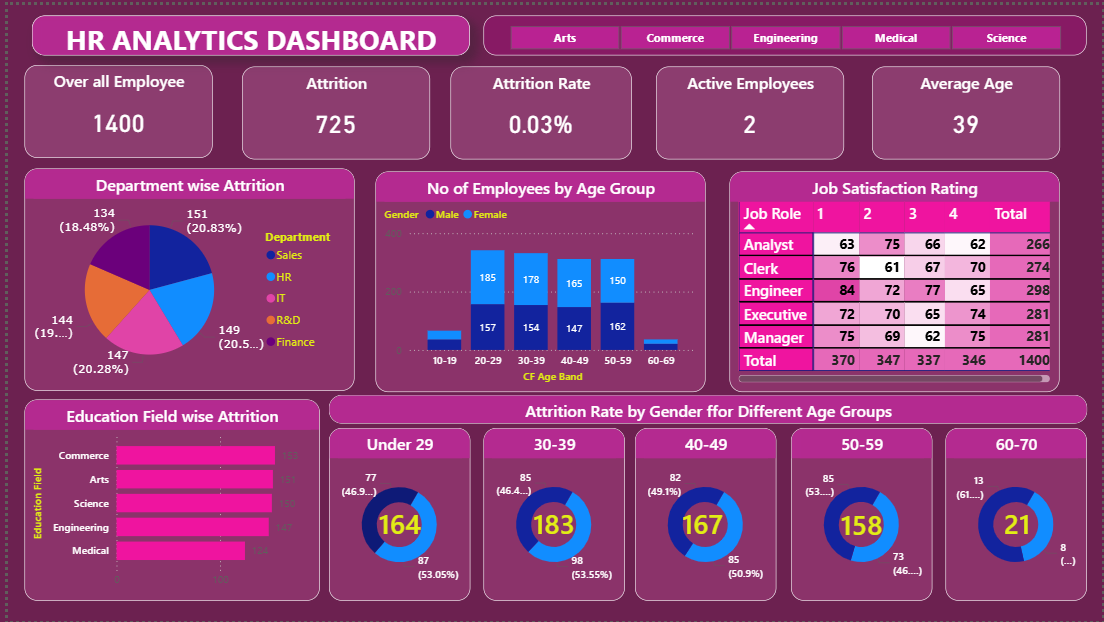

What the dashboard file says about the page in this screenshot:
{"tool":"powerbi","page":{"name":"Page 1","canvas":[1280,720],"ordinal":0},"visuals":[{"type":"card","title":"Over all Employee","fields":{"Values":["Sum(employee_attrition_1400.EmployeeCount)"]},"box":[20,70,220,108.3],"z":0},{"type":"card","title":"Attrition","fields":{"Values":["Sum(employee_attrition_1400.Attrition Count)"]},"box":[273.3,71.7,220,108.3],"z":1000},{"type":"card","title":"Attrition Rate","fields":{"Values":["HR data.Attrition Rate"]},"box":[516.7,71.7,211.7,108.3],"z":2000},{"type":"card","title":"Active Employees","fields":{"Values":["HR data.Active Employees"]},"box":[758.3,71.7,220,108.3],"z":3000},{"type":"card","title":"Average Age","fields":{"Values":["Avg(HR data.Age)"]},"box":[1010,71.7,220,108.3],"z":4000},{"type":"pieChart","title":"Department wise Attrition ","fields":{"Category":["HR data.Department"],"Y":["Sum(HR data.Attrition Count)"]},"box":[20,192,386,260],"z":5000},{"type":"columnChart","title":"No of Employees by Age Group","fields":{"Category":["HR data.CF Age Band"],"Y":["Sum(HR data.EmployeeCount)"],"Series":["HR data.Gender"]},"box":[430,194,386,258],"z":6000},{"type":"pivotTable","title":"Job Satisfaction Rating","fields":{"Rows":["HR data.Job Role"],"Columns":["HR data.Job  Satisfaction"],"Values":["Sum(HR data.EmployeeCount)"]},"box":[844,194,386,258],"z":7000},{"type":"barChart","title":"Education Field wise Attrition","fields":{"Category":["HR data.Education Field"],"Y":["Sum(HR data.Attrition Count)"]},"box":[20,462,345,235],"z":8000},{"type":"donutChart","title":"Under 29","fields":{"Category":["HR data.Gender"],"Y":["Sum(HR data.Attrition Count)"],"Series":["HR data.CF Age Band"]},"box":[375,495,165,202.1],"z":9000},{"type":"textbox","title":"Attrition Rate by Gender  ffor Different Age Groups","box":[375,456.7,886.7,33.3],"z":10000},{"type":"donutChart","title":"30-39","fields":{"Category":["HR data.Gender"],"Y":["Sum(HR data.Attrition Count)"],"Series":["HR data.CF Age Band"]},"box":[556.7,495,165,201.7],"z":11000},{"type":"donutChart","title":"40-49","fields":{"Category":["HR data.Gender"],"Y":["Sum(HR data.Attrition Count)"],"Series":["HR data.CF Age Band"]},"box":[733.3,495,165,201.7],"z":12000},{"type":"donutChart","title":"50-59","fields":{"Category":["HR data.Gender"],"Y":["Sum(HR data.Attrition Count)"],"Series":["HR data.CF Age Band"]},"box":[915,495,165,201.7],"z":13000},{"type":"donutChart","title":"60-70","fields":{"Category":["HR data.Gender"],"Y":["Sum(HR data.Attrition Count)"],"Series":["HR data.CF Age Band"]},"box":[1096.7,495,165,201.7],"z":14000},{"type":"card","fields":{"Values":["Sum(HR data.Attrition Count)"]},"box":[604.3,586.4,70,40.7],"z":15000},{"type":"card","fields":{"Values":["Sum(HR data.Attrition Count)"]},"box":[781.4,586.4,62.9,40.7],"z":16000},{"type":"card","fields":{"Values":["Sum(HR data.Attrition Count)"]},"box":[427.9,586.4,60,40.7],"z":17000},{"type":"card","fields":{"Values":["Sum(HR data.Attrition Count)"]},"box":[966.4,587.1,62.9,39.3],"z":18000},{"type":"card","fields":{"Values":["Sum(HR data.Attrition Count)"]},"box":[1148.3,586.7,61.7,40],"z":19000},{"type":"textbox","title":"HR ANALYTICS DASHBOARD","box":[28.3,11.7,511.7,46.7],"z":20000},{"type":"slicer","fields":{"Values":["HR data.Education Field"]},"box":[556.7,11.7,705,46.7],"z":21000}]}

Visuals, with their boxes in screenshot pixels (x1, y1, x2, y2), scaled from the page's 1280x720 canvas onto the 1104x622 screenshot:
"Over all Employee" card: <box>17,60,207,154</box>
"Attrition" card: <box>236,62,425,156</box>
"Attrition Rate" card: <box>446,62,628,156</box>
"Active Employees" card: <box>654,62,844,156</box>
"Average Age" card: <box>871,62,1061,156</box>
"Department wise Attrition " pieChart: <box>17,166,350,390</box>
"No of Employees by Age Group" columnChart: <box>371,168,704,390</box>
"Job Satisfaction Rating" pivotTable: <box>728,168,1061,390</box>
"Education Field wise Attrition" barChart: <box>17,399,315,602</box>
"Under 29" donutChart: <box>323,428,466,602</box>
"Attrition Rate by Gender  ffor Different Age Groups" textbox: <box>323,395,1088,423</box>
"30-39" donutChart: <box>480,428,622,602</box>
"40-49" donutChart: <box>632,428,775,602</box>
"50-59" donutChart: <box>789,428,932,602</box>
"60-70" donutChart: <box>946,428,1088,602</box>
card - Sum(HR data.Attrition Count): <box>521,507,582,542</box>
card - Sum(HR data.Attrition Count): <box>674,507,728,542</box>
card - Sum(HR data.Attrition Count): <box>369,507,421,542</box>
card - Sum(HR data.Attrition Count): <box>834,507,888,541</box>
card - Sum(HR data.Attrition Count): <box>990,507,1044,541</box>
"HR ANALYTICS DASHBOARD" textbox: <box>24,10,466,50</box>
slicer - HR data.Education Field: <box>480,10,1088,50</box>
